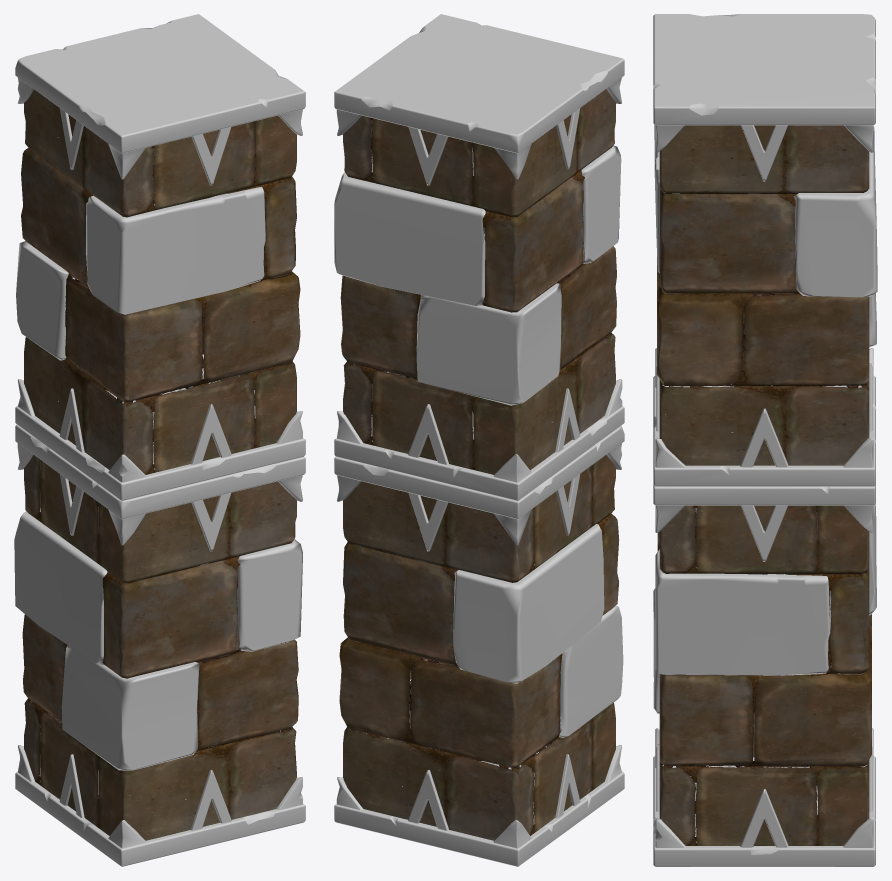
3 views of the same model, side by side, from view 1: azimuth 30°, elevation 25°; view 2: azimuth 150°, elevation 25°; view 3: azimuth 270°, elevation 25° (orthographic). The views are drawn at different scales.
Parts seen in each view (by area): view 1: SM_AgilityPillar_2x8_LOD0; view 2: SM_AgilityPillar_2x8_LOD0; view 3: SM_AgilityPillar_2x8_LOD0.
Part boxes in pixels (<box>): SM_AgilityPillar_2x8_LOD0: <box>14,14,305,866</box>; SM_AgilityPillar_2x8_LOD0: <box>334,14,624,866</box>; SM_AgilityPillar_2x8_LOD0: <box>653,14,877,866</box>.
Bounding box in the file's own units: 2.15 × 8 × 2.14.
